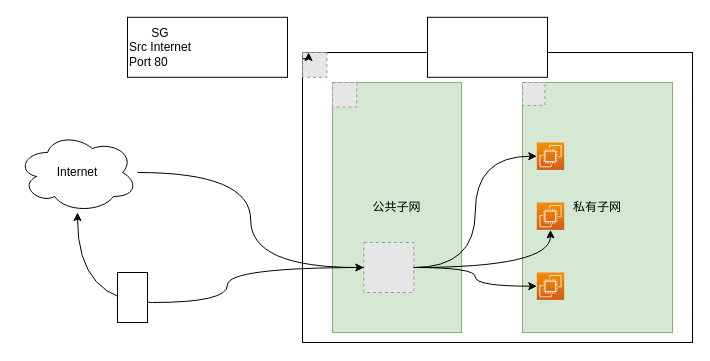
Image size: 710x361. Some labels were removed from this diagram. Grey dashed boxes stand in for pictures. The centre of each missing label's shape, as x and y in pixels:
"SG Src ALB的安全组/ALB所在的子网组 Port 80" goes at [487,46].
"SG 全开" goes at [132,297].
